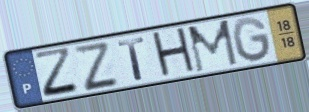G: (230, 15, 274, 64)
H: (149, 25, 199, 81)
M: (185, 18, 240, 75)
T: (115, 35, 148, 82)
Z: (32, 45, 83, 100), (71, 40, 121, 93)
